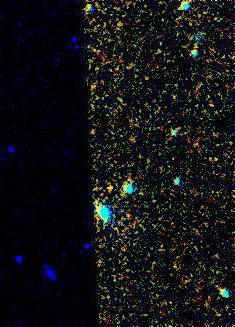star: (92, 170, 122, 200)
